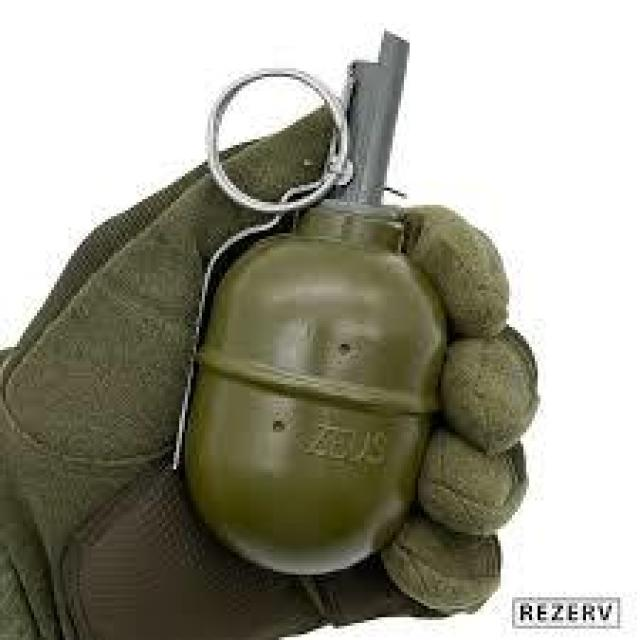grenade: (174, 20, 489, 586)
